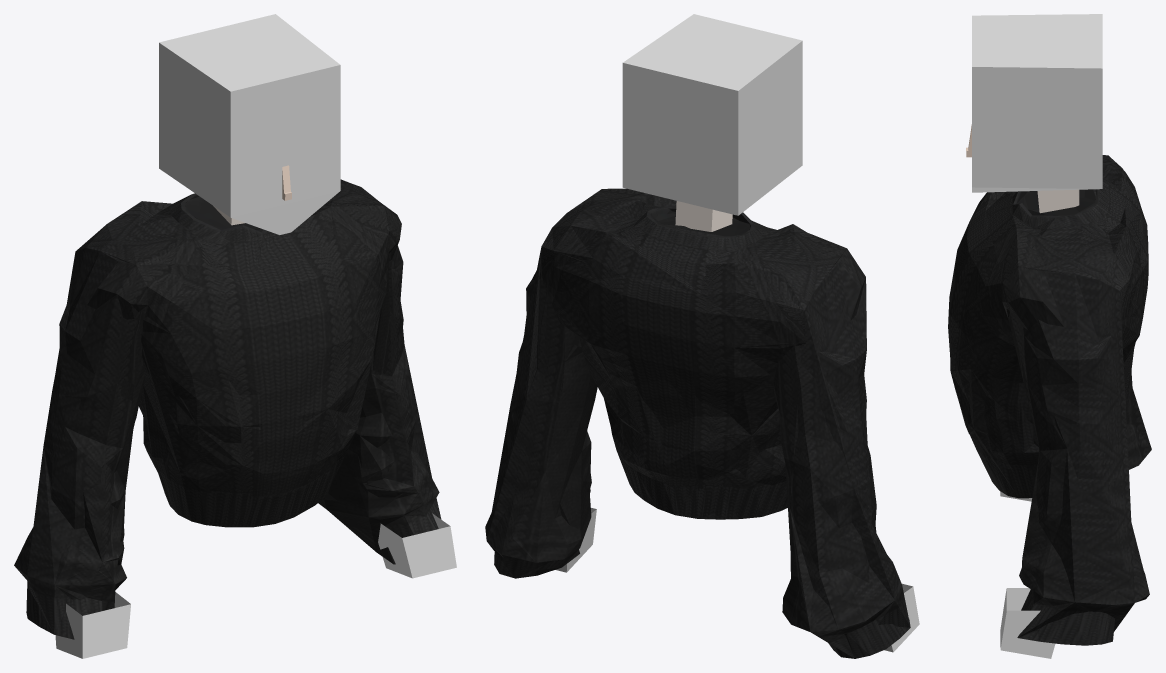
The model's file is character_wear_9240757332.fbx.
The picture shows the model from 3 angles, left to right: view 1: azimuth 30°, elevation 25°; view 2: azimuth 150°, elevation 25°; view 3: azimuth 270°, elevation 25°; orthographic projection. The views are drawn at different scales.
Parts seen in each view (by area): view 1: Top_9240757332, cabeca, antebraco esquerdo, antebraco direito; view 2: Top_9240757332, cabeca, pecoco, antebraco direito; view 3: Top_9240757332, cabeca, antebraco esquerdo, pecoco.
Boxes of the visible parts, box(x1,y1,x2,y2) form: Top_9240757332: box(14, 179, 441, 639); cabeca: box(159, 14, 340, 234); antebraco esquerdo: box(378, 513, 456, 578); antebraco direito: box(55, 592, 130, 658); Top_9240757332: box(485, 188, 910, 658); cabeca: box(622, 14, 802, 215); pecoco: box(675, 201, 732, 231); antebraco direito: box(884, 583, 919, 652); Top_9240757332: box(948, 155, 1151, 645); cabeca: box(972, 14, 1102, 192); antebraco esquerdo: box(1000, 588, 1055, 658); pecoco: box(1037, 189, 1079, 213).
Size of the model in its own units: 0.8572 by 1.13 by 0.3919.
Materials: 4 (3 with a texture image).
